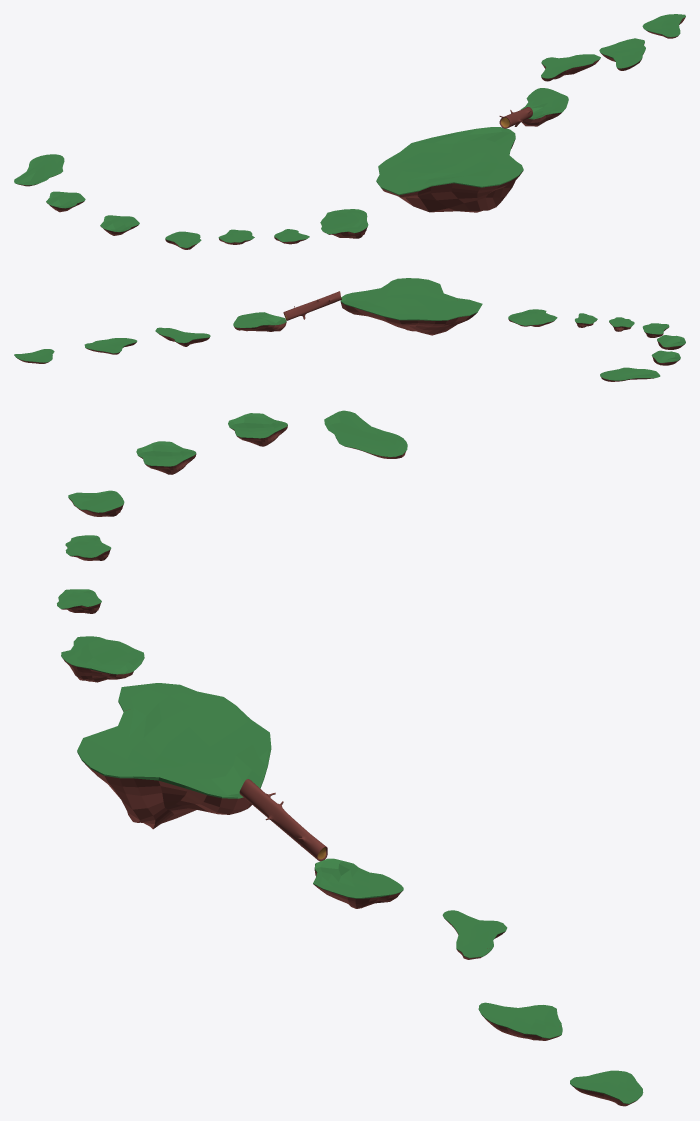
The model's file is octree_li.glb.
The picture shows the model from 3 angles, top to bottom: view 1: azimuth 30°, elevation 25°; view 2: azimuth 150°, elevation 25°; view 3: azimuth 270°, elevation 25°; orthographic projection. The views are drawn at different scales.
Visible parts, largest first — view 1: Var4.005, Var4.003, Var4.006, Var4.002, Var4.012, Var4.001, Var4.004, Var4.010, Var4.011, Var4.009, Log, Var4.008 (+1 smaller); view 2: Var4.005, Var4.003, Var4.012, Var4.006, Log, Var4.002, Var4.001, Var4.004, Var4.011, Var4.010, Var4.009, Var4.008 (+1 smaller); view 3: Var4.005, Var4.003, Var4.006, Var4.001, Var4.012, Log, Var4.002, Var4.004, Var4.011, Var4.010, Var4.009.
Boxes of the visible parts, x1,y1,x2,y2 form: Var4.005: (376, 127, 523, 212); Var4.003: (520, 88, 568, 126); Var4.006: (320, 209, 368, 238); Var4.002: (541, 54, 600, 81); Var4.012: (14, 154, 64, 186); Var4.001: (599, 38, 645, 70); Var4.004: (642, 14, 685, 38); Var4.010: (100, 215, 139, 235); Var4.011: (46, 191, 85, 212); Var4.009: (165, 231, 201, 249); Log: (499, 107, 532, 128); Var4.008: (218, 229, 254, 244); Var4.005: (340, 278, 482, 335); Var4.003: (233, 312, 286, 331); Var4.012: (600, 367, 660, 381); Var4.006: (508, 309, 557, 326); Log: (283, 291, 341, 320); Var4.002: (155, 327, 210, 346); Var4.001: (84, 338, 137, 354); Var4.004: (14, 349, 54, 363); Var4.011: (651, 350, 680, 365); Var4.010: (657, 335, 685, 349); Var4.009: (642, 323, 669, 337); Var4.008: (609, 317, 634, 331); Var4.005: (77, 683, 271, 829); Var4.003: (313, 858, 403, 908); Var4.006: (61, 636, 144, 682); Var4.001: (478, 1002, 562, 1040); Var4.012: (324, 410, 407, 458); Log: (239, 779, 327, 861); Var4.002: (442, 910, 507, 959); Var4.004: (570, 1070, 643, 1106); Var4.011: (228, 413, 287, 446); Var4.010: (136, 441, 196, 474); Var4.009: (68, 490, 124, 516).
Size of the model in its own units: 80.38 by 9.56 by 35.5.
